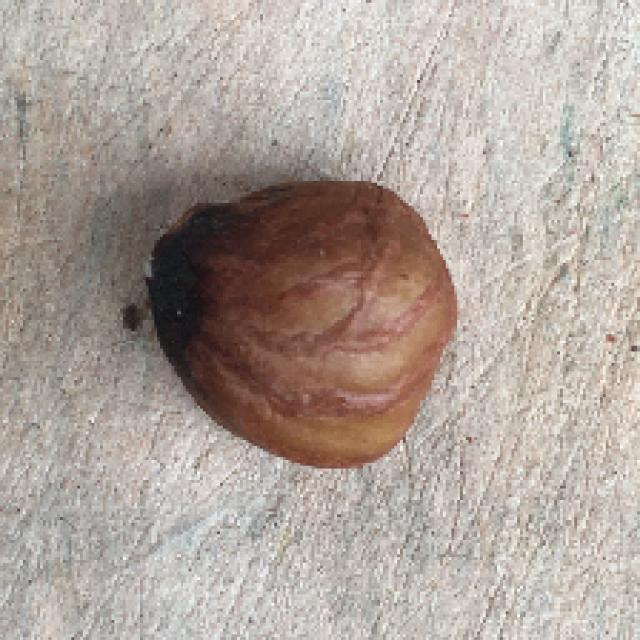hazelnut: (149, 172, 467, 469)
